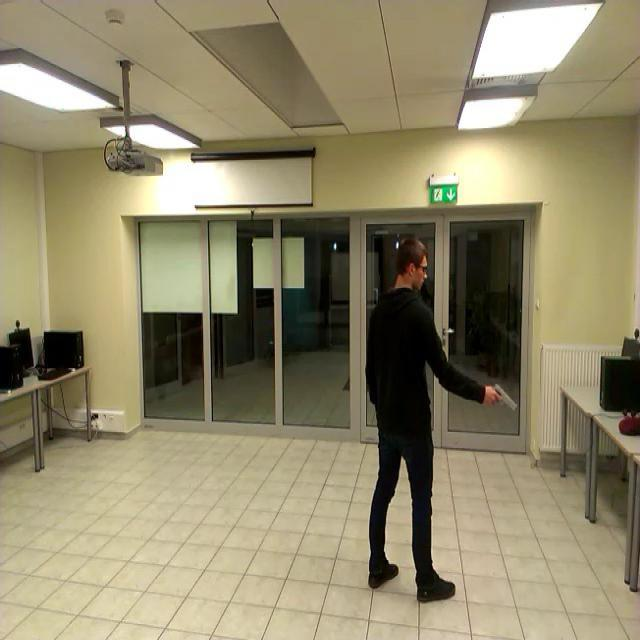weapon: (482, 382, 516, 408)
